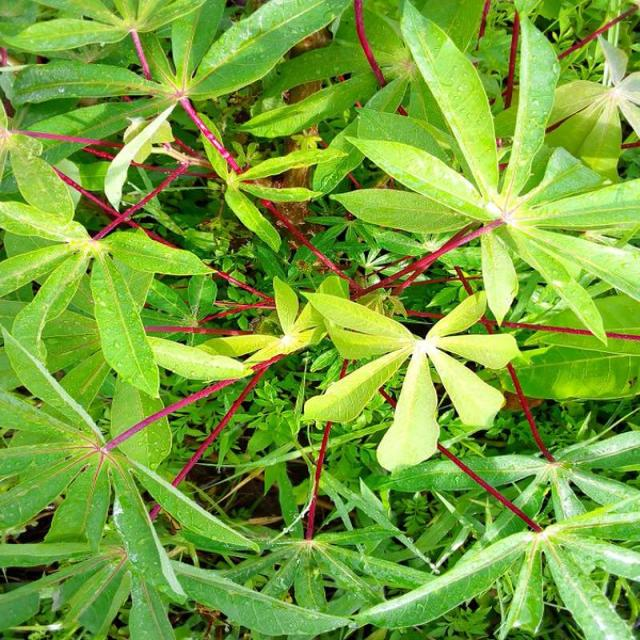cassava leaf: (2, 0, 639, 638), (331, 1, 640, 345), (302, 280, 521, 472)
